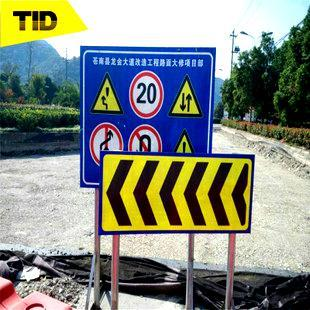sign: (80, 48, 250, 237)
